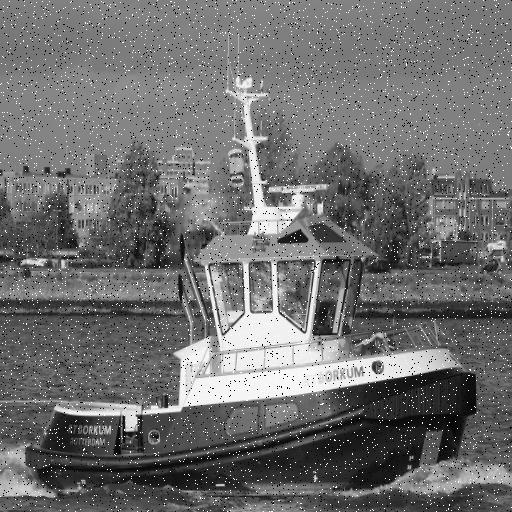tugboat: (20, 28, 483, 512)
